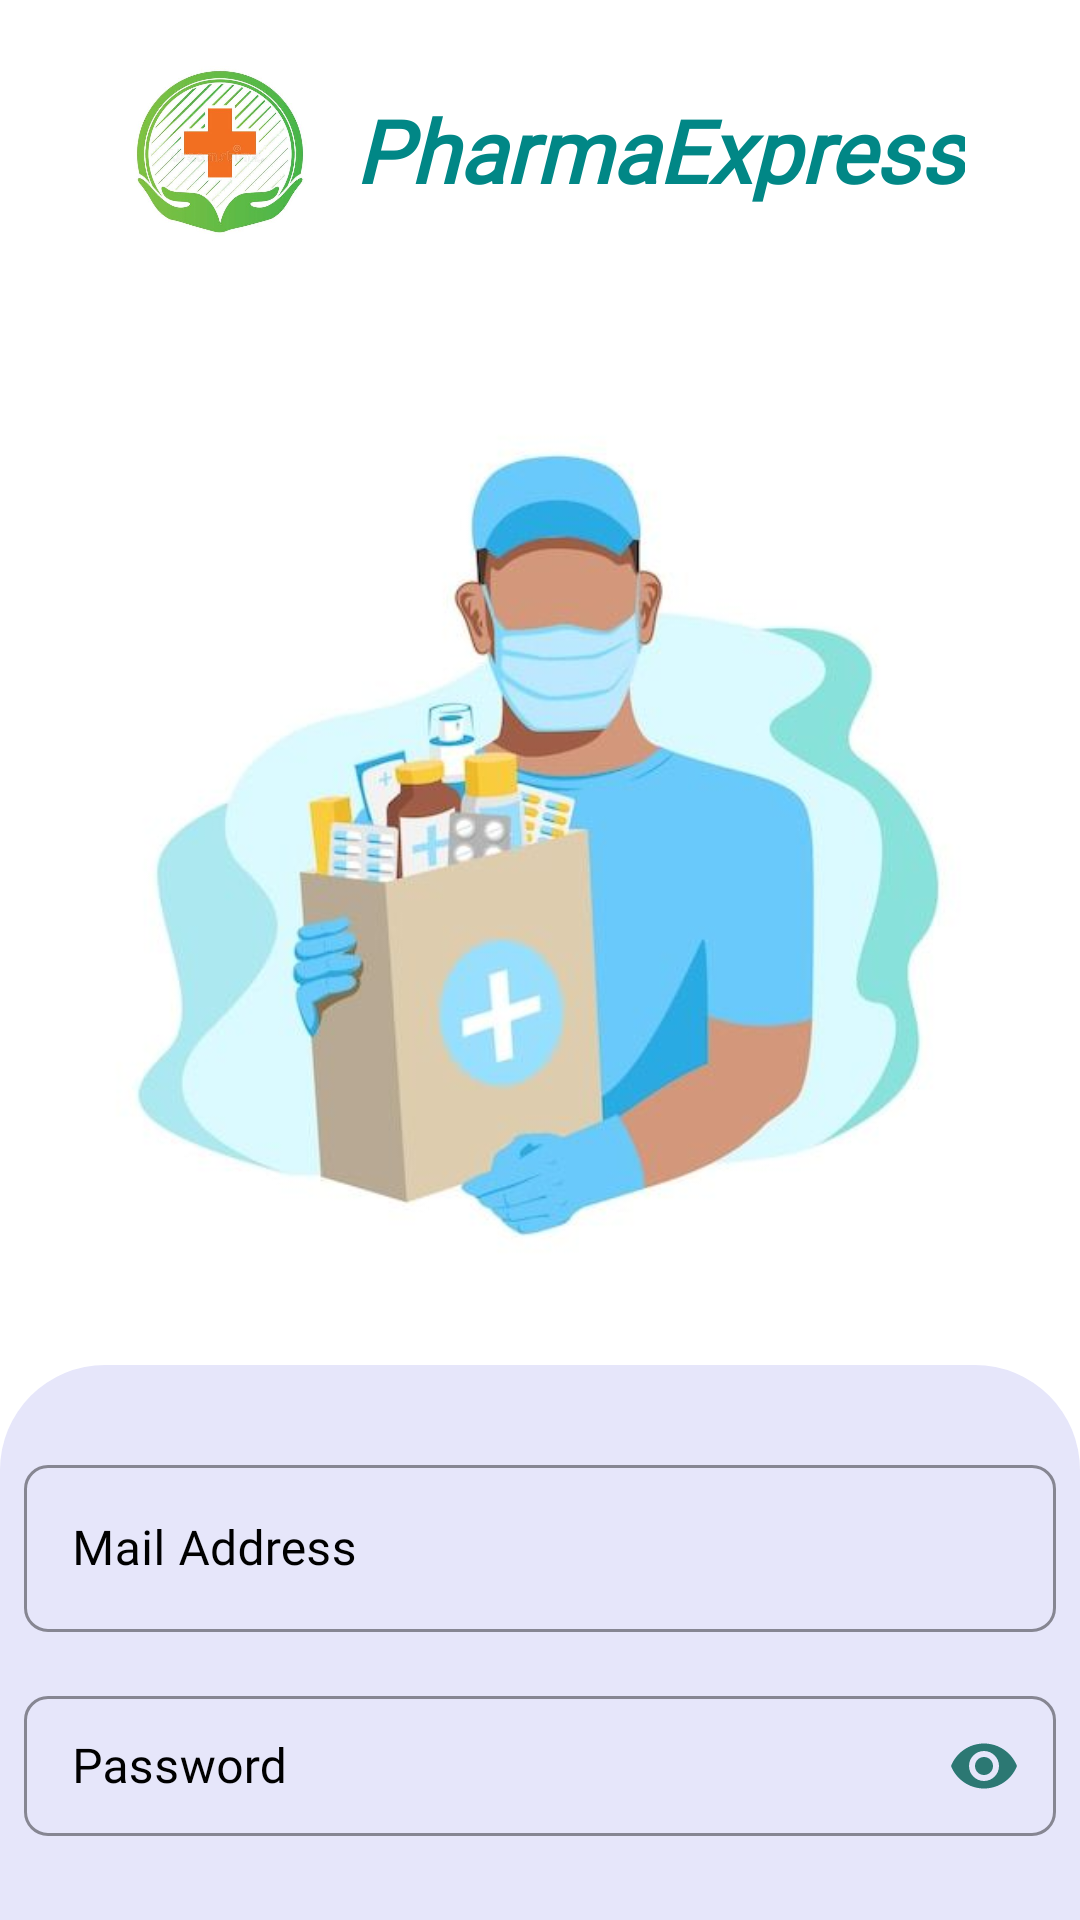

Icon click points for this 1080px×1920px phone screenshot, format point (x, y):
iconpharmacy: point (220, 152)
